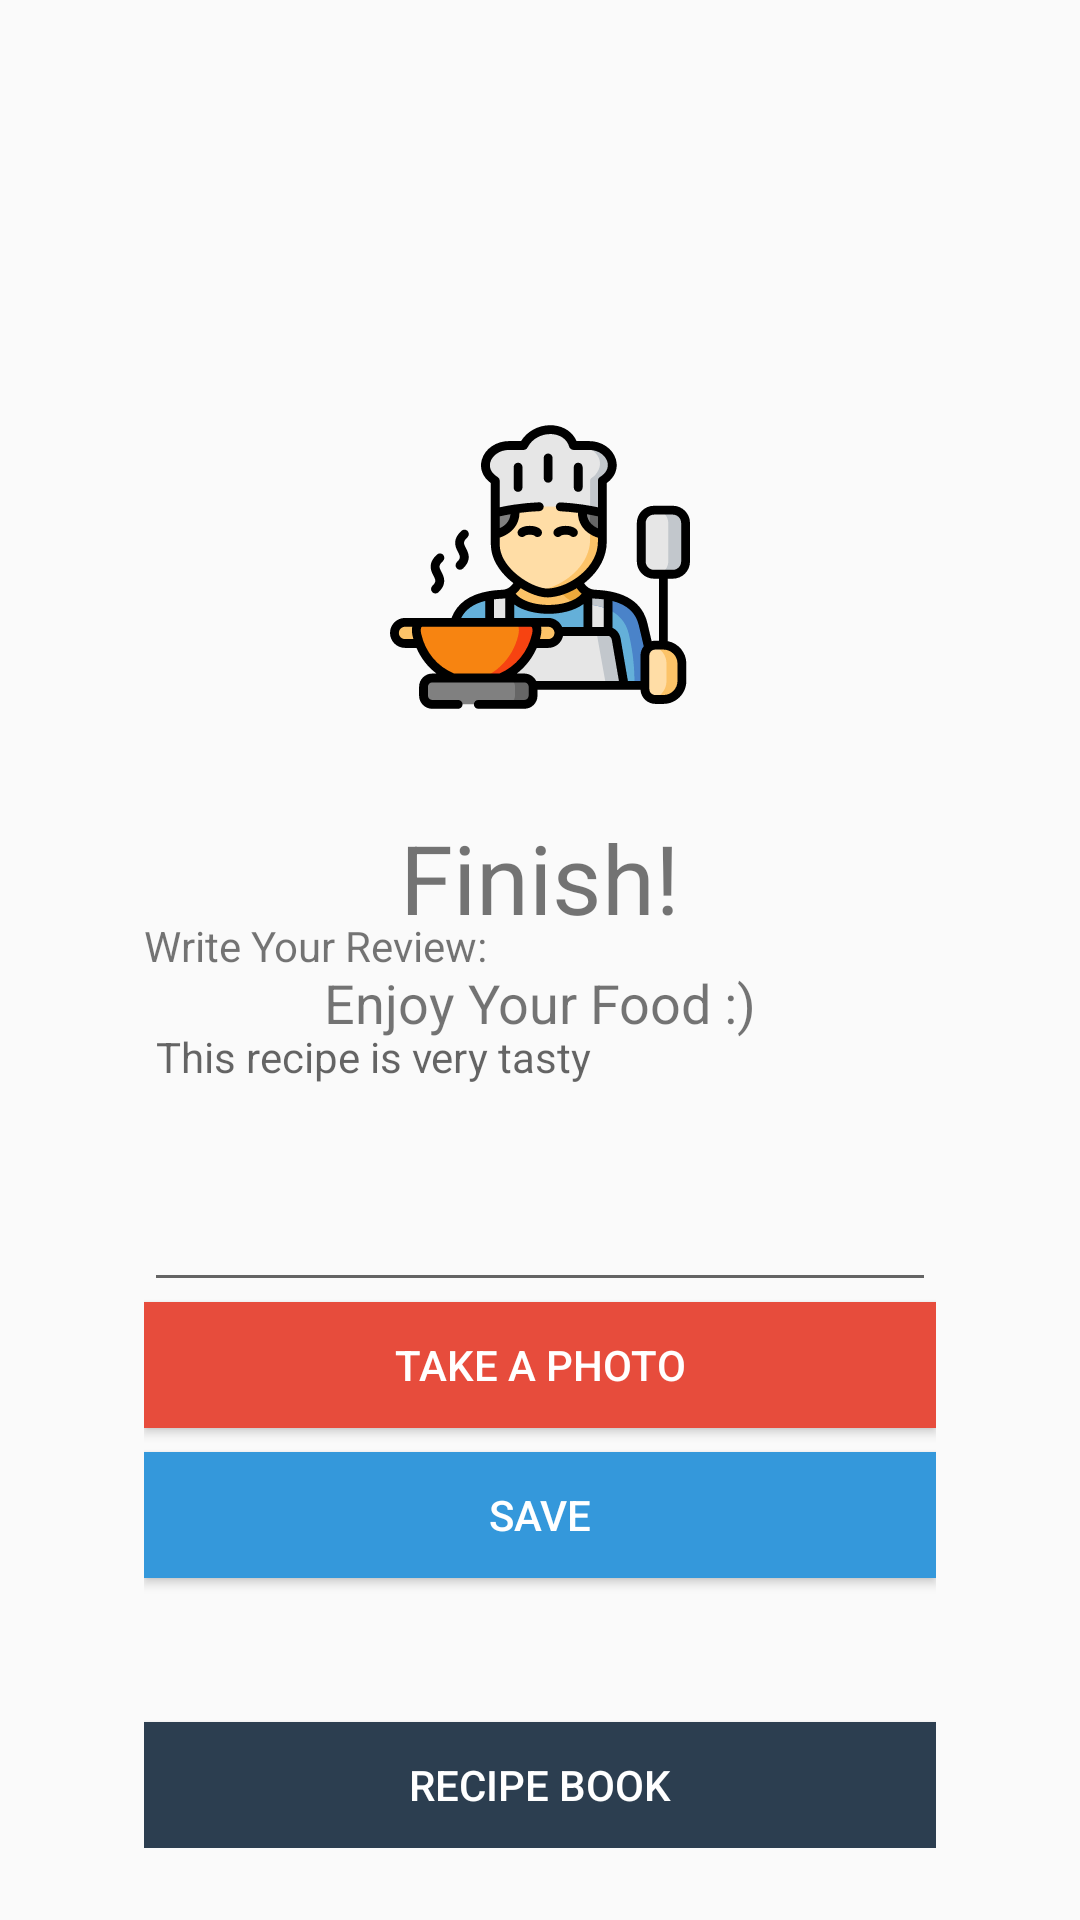

Point at icon controls on the screen. Image size 1080*1920, points as point (x, y).
cooking: point (540, 567)
